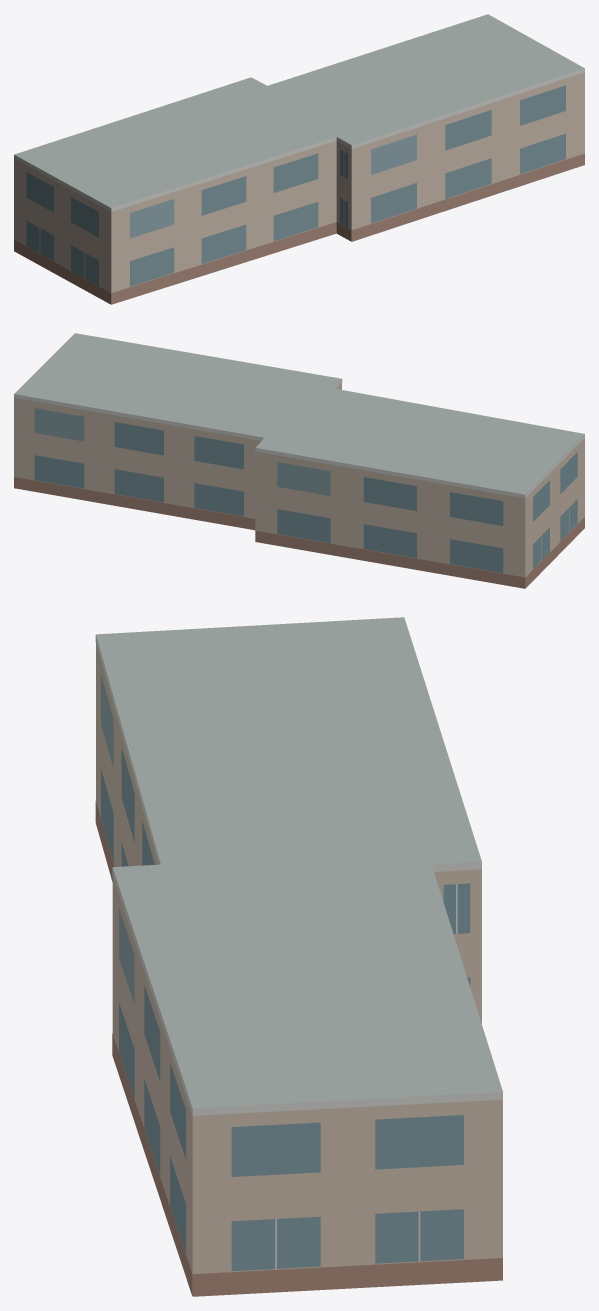
The model's file is survey-upis-32547175.glb.
The picture shows the model from 3 angles, top to bottom: view 1: azimuth 30°, elevation 25°; view 2: azimuth 150°, elevation 25°; view 3: azimuth 270°, elevation 25°; orthographic projection. The views are drawn at different scales.
Visible parts, largest first — view 1: survey-upis-32547175.tmp; view 2: survey-upis-32547175.tmp; view 3: survey-upis-32547175.tmp.
Part boxes in pixels (bbox=[...]): survey-upis-32547175.tmp: bbox=[14, 14, 584, 304]; survey-upis-32547175.tmp: bbox=[14, 333, 584, 588]; survey-upis-32547175.tmp: bbox=[95, 617, 502, 1296].
Size of the model in its own units: 34.12 by 6.1 by 11.96.
